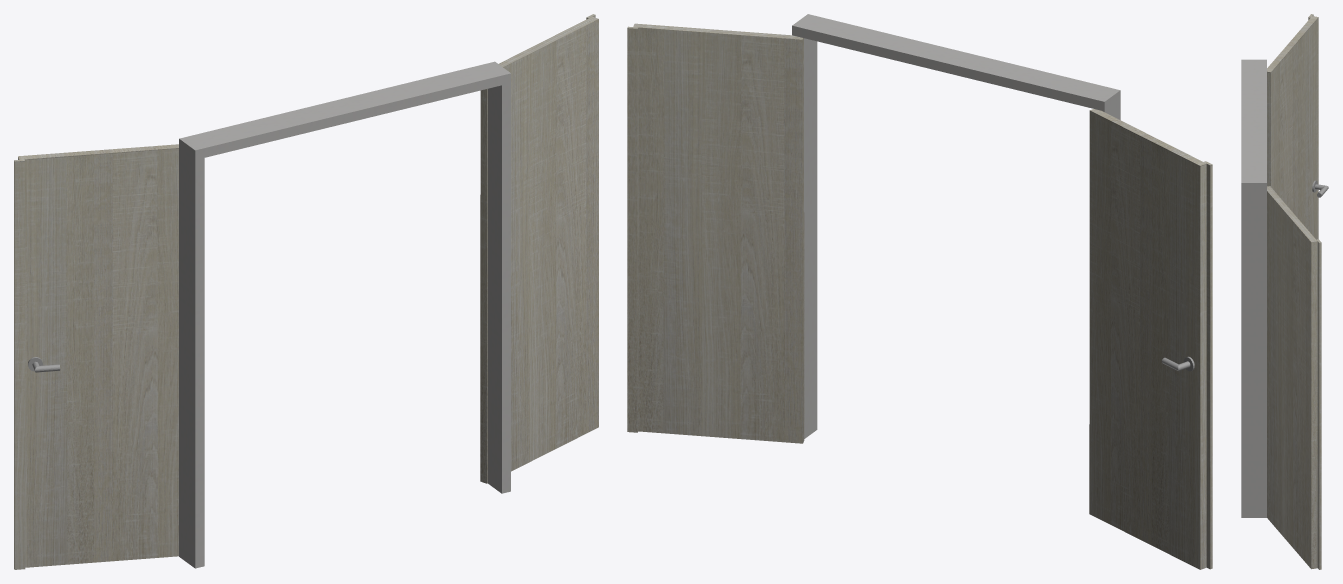
File: door_160_fully_open.dae
The picture shows the model from 3 angles, left to right: view 1: azimuth 30°, elevation 25°; view 2: azimuth 150°, elevation 25°; view 3: azimuth 270°, elevation 25°; orthographic projection. The views are drawn at different scales.
Visible parts, largest first — view 1: dvere_80_sklikou, dvere_80_bezkliky, futra_160; view 2: dvere_80_bezkliky, dvere_80_sklikou, futra_160; view 3: dvere_80_bezkliky, futra_160, dvere_80_sklikou.
Boxes of the visible parts, x1,y1,x2,y2 form: dvere_80_sklikou: (14, 144, 178, 569); dvere_80_bezkliky: (480, 14, 598, 483); futra_160: (179, 61, 510, 568); dvere_80_bezkliky: (627, 23, 804, 443); dvere_80_sklikou: (1089, 109, 1212, 569); futra_160: (792, 14, 1120, 438); dvere_80_bezkliky: (1267, 186, 1321, 569); futra_160: (1241, 59, 1266, 517); dvere_80_sklikou: (1267, 14, 1328, 239).
Size of the model in its own units: 3.15 by 0.51 by 2.15.
4 materials, 3 textured.
